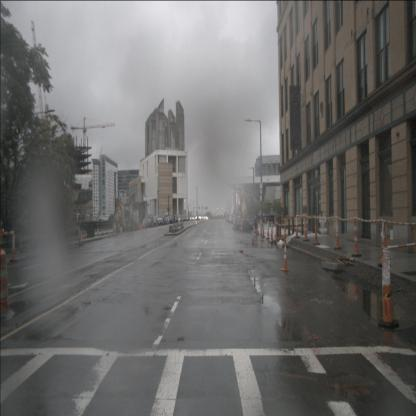cone: (378, 235, 399, 329), (0, 248, 16, 319), (378, 212, 390, 268), (351, 212, 362, 257), (334, 210, 341, 250), (281, 244, 290, 271), (10, 232, 18, 262), (313, 214, 320, 245), (304, 212, 310, 242), (294, 213, 300, 238), (282, 227, 289, 247), (274, 224, 280, 244), (269, 218, 274, 240), (77, 226, 82, 245), (266, 221, 271, 239), (79, 228, 83, 242), (251, 231, 255, 245), (256, 220, 260, 234), (259, 222, 263, 236), (240, 219, 244, 232), (262, 223, 265, 238), (96, 228, 100, 236), (234, 217, 236, 231), (139, 223, 142, 230), (120, 227, 123, 234)
